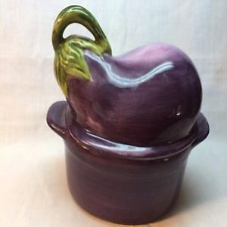eggplant: (59, 41, 206, 149)
